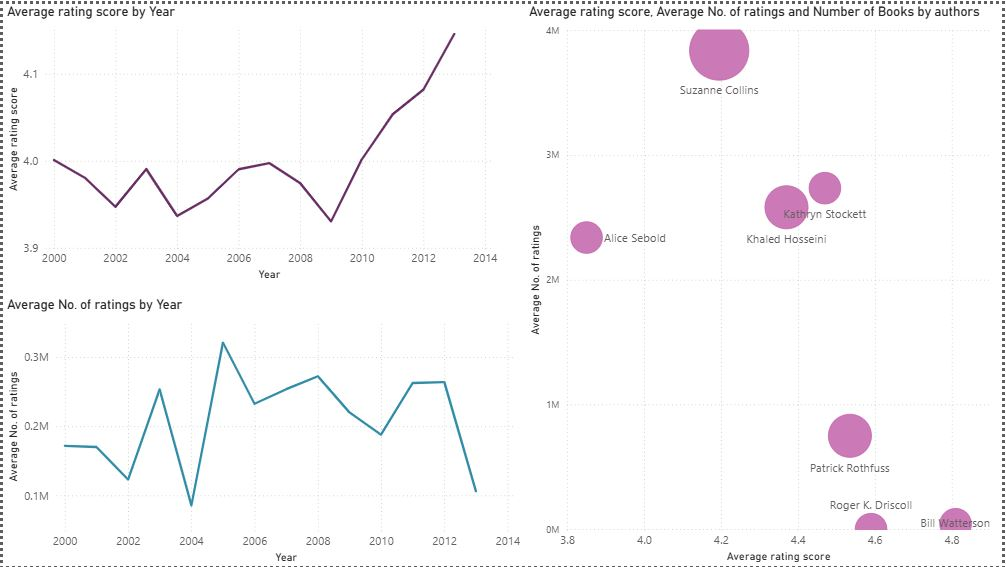

Layout of this report page (visuals, bound fields, positions):
{"tool":"powerbi","page":{"name":"Publication  Year , Author, and Reader Engagement","canvas":[1280,720],"ordinal":4},"visuals":[{"type":"lineChart","fields":{"Category":["goodreads_data.Year"],"Y":["goodreads_data.Average No. of ratings"]},"box":[0,374.1,668.5,346.5],"z":0},{"type":"lineChart","fields":{"Category":["goodreads_data.Year"],"Y":["goodreads_data.Average rating score"]},"box":[0,0,639.2,359.5],"z":1000},{"type":"scatterChart","fields":{"X":["goodreads_data.Average rating score"],"Y":["goodreads_data.Average No. of ratings"],"Size":["goodreads_data.Count of Books"],"Category":["goodreads_data.authors"]},"box":[668.5,0,611.6,720.6],"z":2000}]}

Visuals, with their boxes in screenshot pixels (x1, y1, x2, y2), scaled from the page's 1280x720 canvas onto the 1006x567 screenshot:
lineChart - goodreads_data.Year x goodreads_data.Average No. of ratings: BBox(0, 295, 525, 566)
lineChart - goodreads_data.Year x goodreads_data.Average rating score: BBox(0, 0, 502, 283)
scatterChart - goodreads_data.Average rating score x goodreads_data.Average No. of ratings: BBox(525, 0, 1005, 566)
